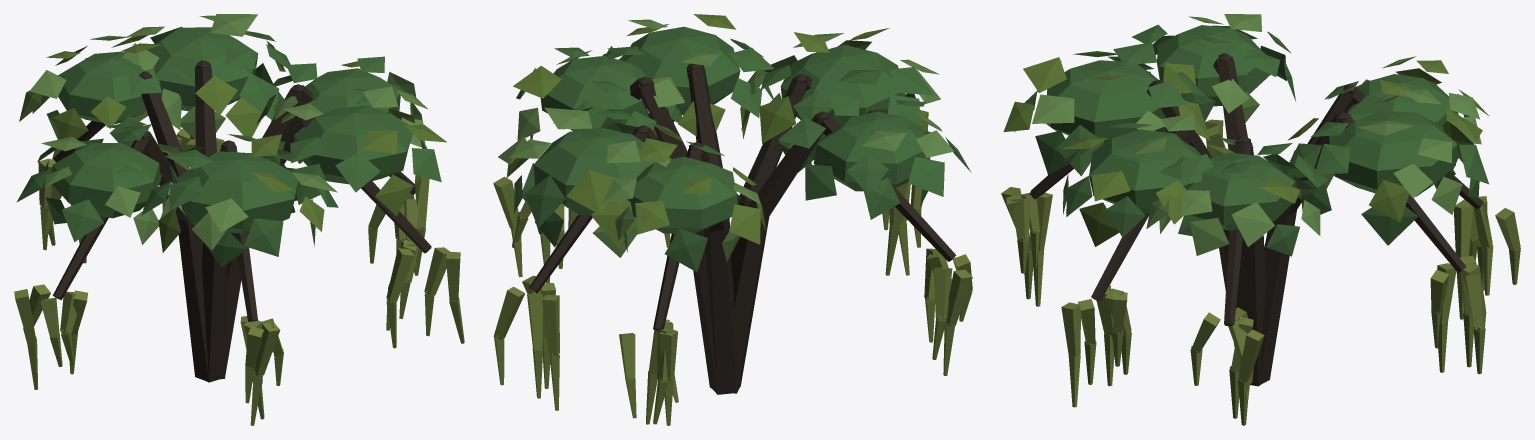
File: swamp_bush.glb
3 renders of one model, left to right at view 1: azimuth 30°, elevation 25°; view 2: azimuth 150°, elevation 25°; view 3: azimuth 270°, elevation 25°, orthographic. The views are drawn at different scales.
Parts seen in each view (by area): view 1: SwampBush; view 2: SwampBush; view 3: SwampBush.
Part boxes in pixels (<box>): SwampBush: <box>14,14,464,425</box>; SwampBush: <box>493,14,972,425</box>; SwampBush: <box>1001,14,1520,425</box>.
Size of the model in its own units: 0.9481 by 0.6042 by 0.9396.
